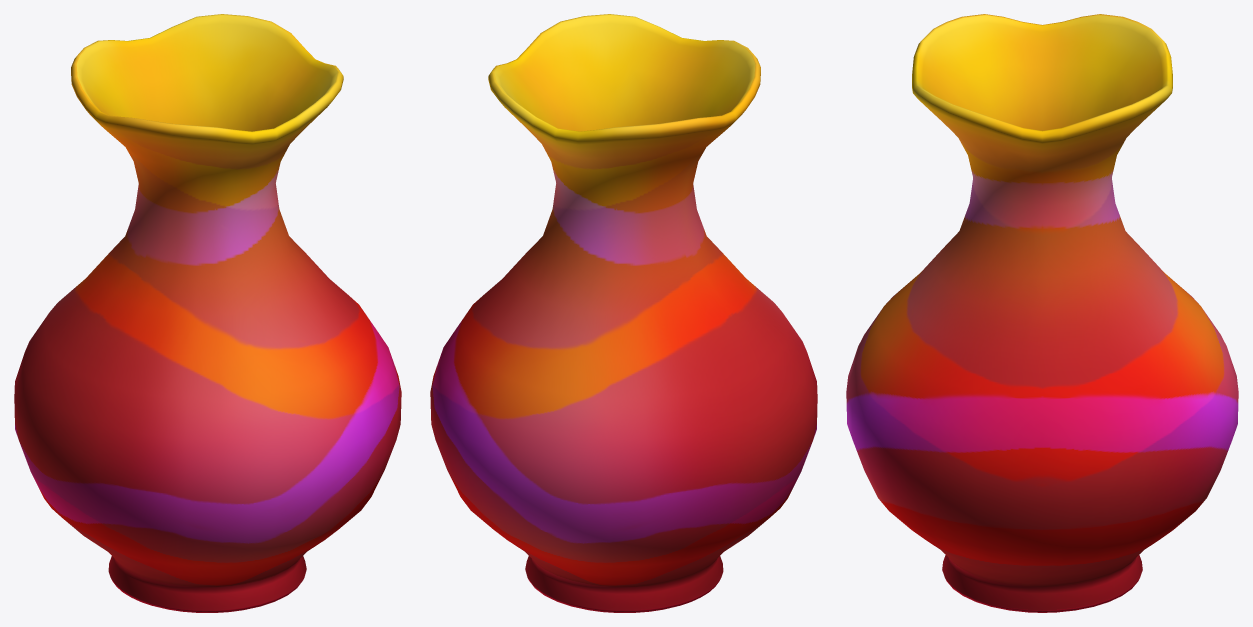
The model's file is HuaPing2.FBX.
The picture shows the model from 3 angles, left to right: view 1: azimuth 30°, elevation 25°; view 2: azimuth 150°, elevation 25°; view 3: azimuth 270°, elevation 25°; orthographic projection.
Parts seen in each view (by area): view 1: HuaPing; view 2: HuaPing; view 3: HuaPing.
Boxes of the visible parts, x1,y1,x2,y2 form: HuaPing: [14, 14, 401, 612]; HuaPing: [430, 14, 817, 612]; HuaPing: [846, 14, 1238, 612].
Size of the model in its own units: 700 by 999 by 699.
